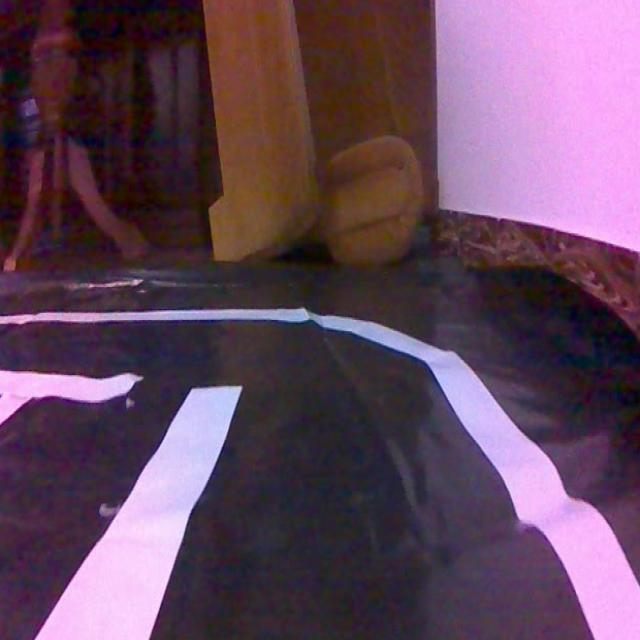LineaCarril: (0, 308, 640, 640), (309, 314, 640, 640), (36, 388, 242, 640), (0, 371, 142, 424)
